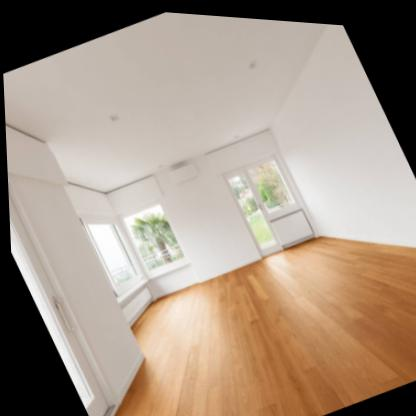Window: (114, 195, 183, 274), (85, 221, 133, 283)
